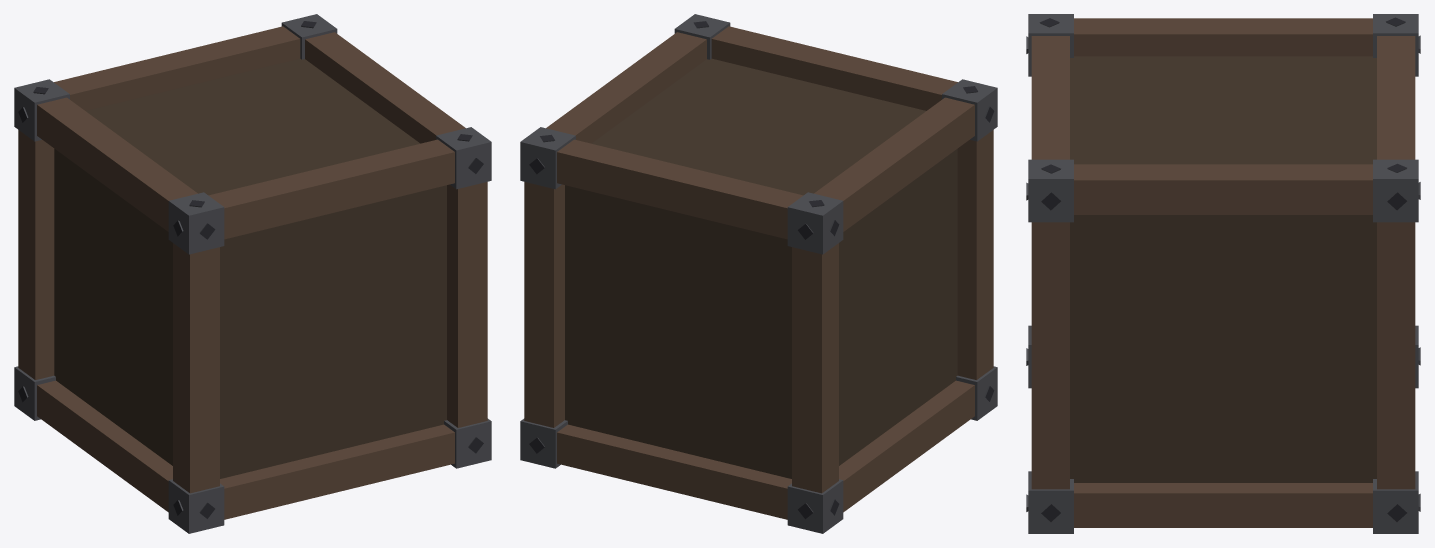
The model's file is Crate_1.fbx.
3 renders of one model, left to right at view 1: azimuth 30°, elevation 25°; view 2: azimuth 150°, elevation 25°; view 3: azimuth 270°, elevation 25°, orthographic. The views are drawn at different scales.
Parts seen in each view (by area): view 1: polySurface2363; view 2: polySurface2363; view 3: polySurface2363.
Part boxes in pixels (bbox=[...]): polySurface2363: bbox=[14, 14, 491, 533]; polySurface2363: bbox=[520, 14, 997, 533]; polySurface2363: bbox=[1026, 14, 1420, 533].
Bounding box in the file's own units: 61.68 × 61.79 × 61.68.
